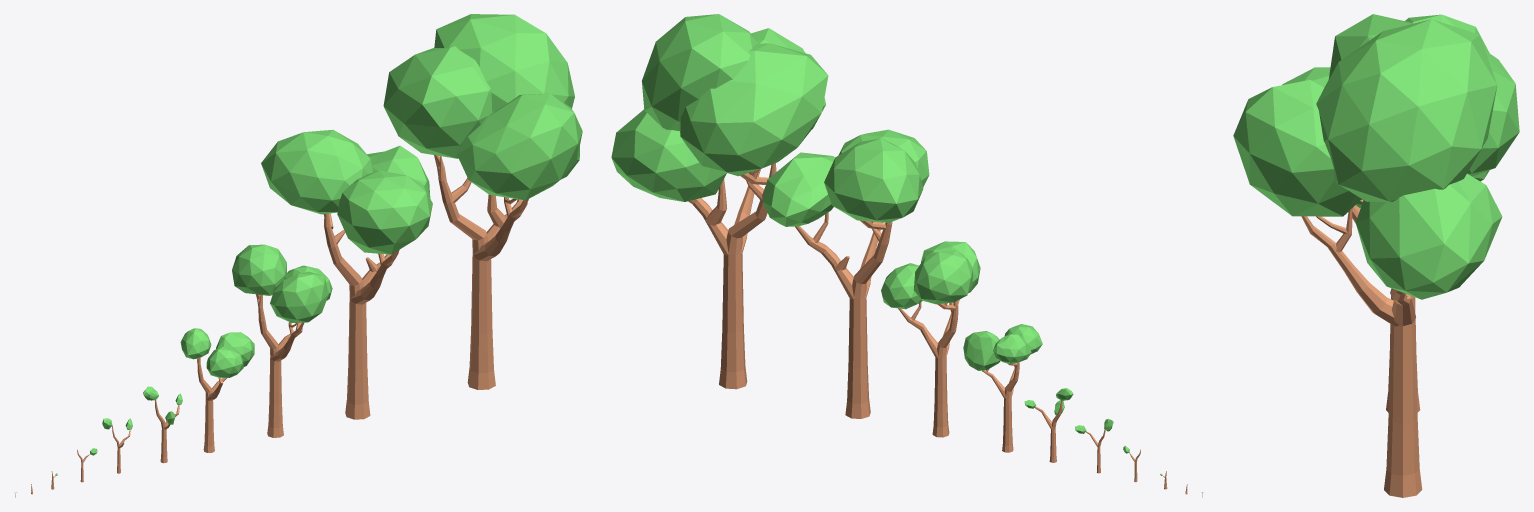
The model's file is TREE_1-10 (1).fbx.
The picture shows the model from 3 angles, left to right: view 1: azimuth 30°, elevation 25°; view 2: azimuth 150°, elevation 25°; view 3: azimuth 270°, elevation 25°; orthographic projection. The views are drawn at different scales.
Visible parts, largest first — view 1: Icosphere.012, Icosphere.010, Circle.007, Icosphere.014, Circle.005; view 2: Icosphere.012, Icosphere.010, Circle.007, Icosphere.014, Circle.005; view 3: Icosphere.012, Icosphere.010.
Boxes of the visible parts, x1,y1,x2,y2 form: Icosphere.012: [383, 14, 582, 389]; Icosphere.010: [261, 129, 432, 419]; Circle.007: [232, 244, 332, 437]; Icosphere.014: [180, 328, 254, 452]; Circle.005: [143, 386, 182, 463]; Icosphere.012: [611, 14, 828, 389]; Icosphere.010: [762, 129, 929, 418]; Circle.007: [881, 241, 980, 437]; Icosphere.014: [963, 324, 1042, 452]; Circle.005: [1024, 388, 1073, 462]; Icosphere.012: [1233, 14, 1519, 497]; Icosphere.010: [1282, 14, 1489, 412].
Bounding box in the file's own units: 40127 × 23852 × 13167.
